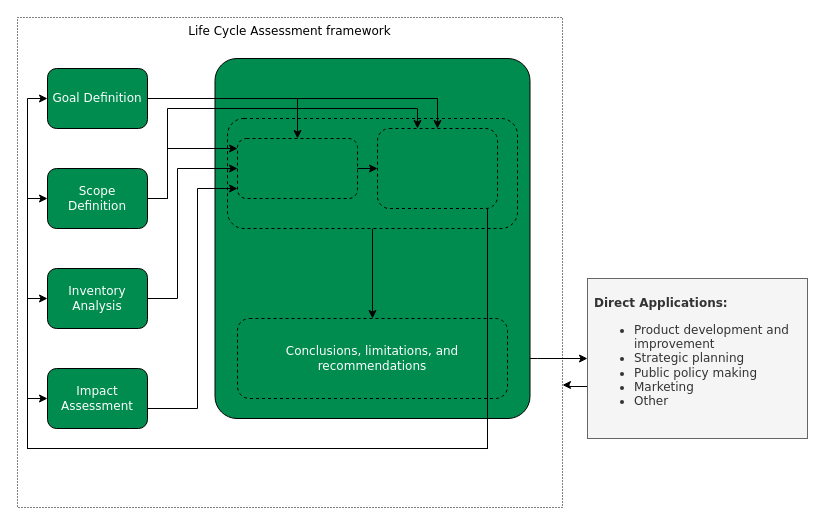
The diagram is 825 pixels wide and 525 high, and some of its shapes have lost their labels. The box of each missing label's shape, as (x1, y1, x2, y2) in pixels:
Evaluation of Completeness Sensitivity Consistancy Other checks: (376, 128, 498, 208)
Identification of siginificant issues: (236, 138, 358, 198)
Interpretation: (214, 58, 530, 418)
